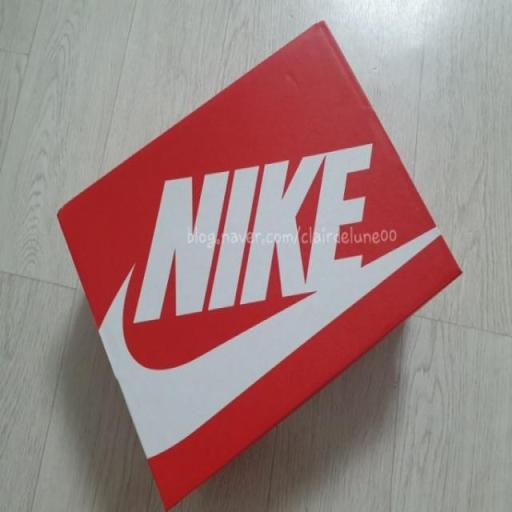Nike: (98, 259, 396, 461), (133, 141, 373, 322)
